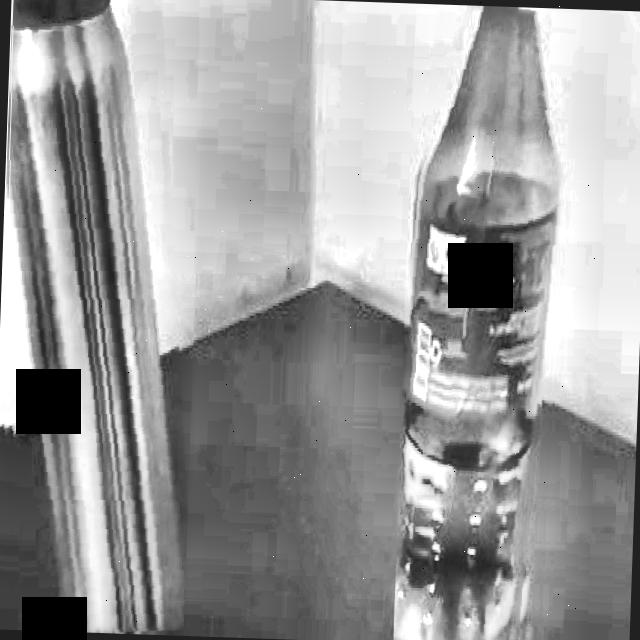bottle: (7, 0, 185, 633), (393, 6, 563, 640)
